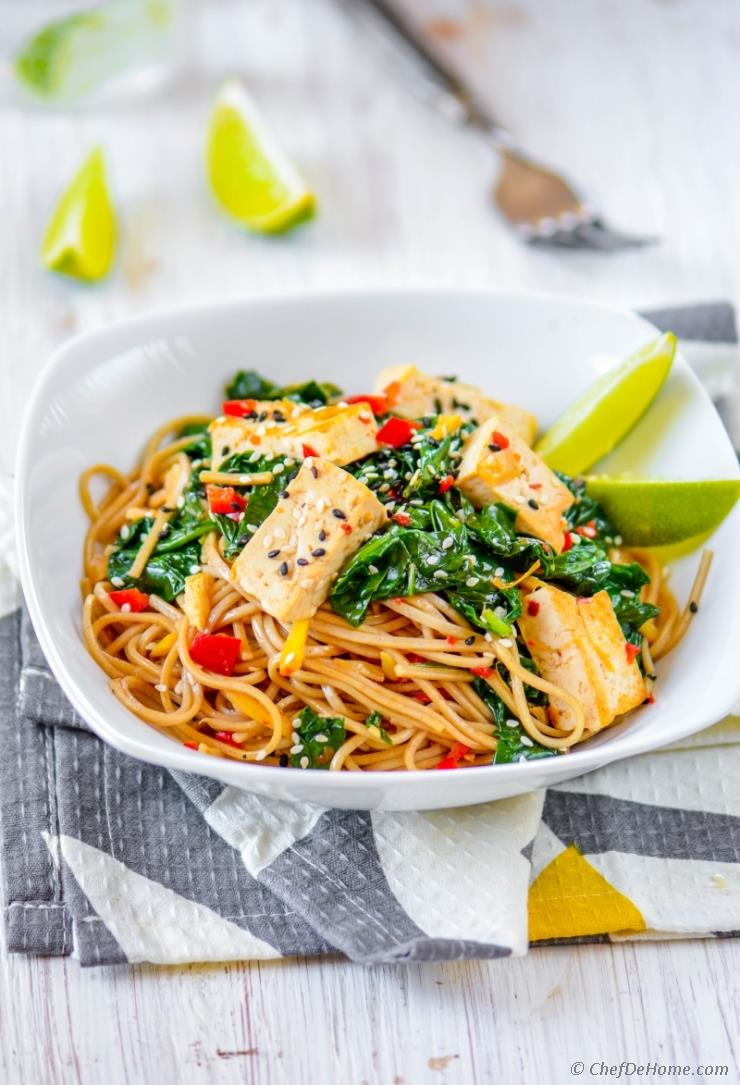Soba: (81, 386, 709, 780)
